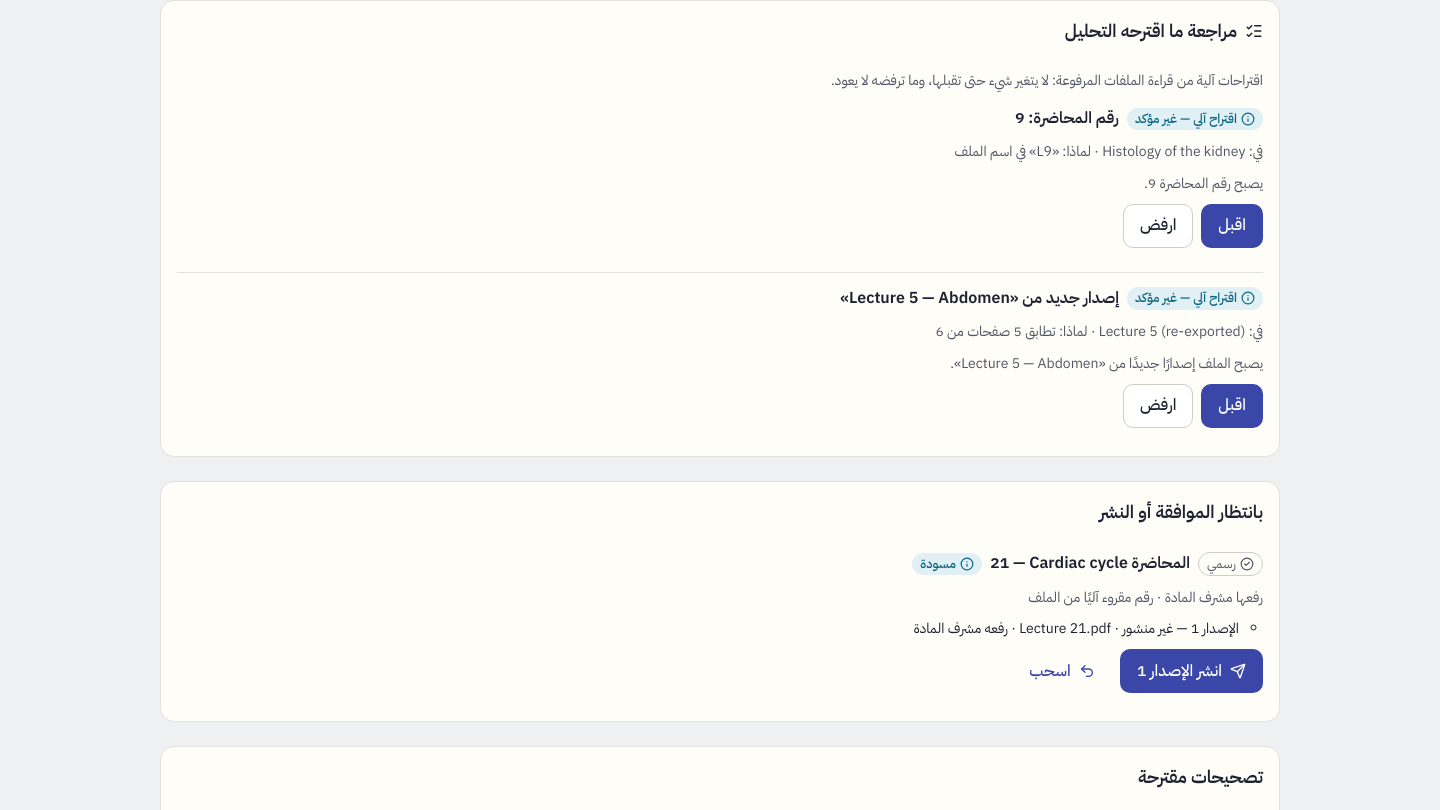
Test: AOS-3.18 / 3.11 / 19I.5 — the subject's review queue › a Subject Moderator sees the proposals marked as machine-made, with reasons and effect; accepting reports the server's result
(page scrolled)
Expected: the 1st list item shows "اقتراح آلي — غير مؤكد", [1135, 109, 1237, 128]
Expected: the 1st list item shows "رقم المحاضرة: 9", [954, 106, 1263, 248]
Click the button "اقبل" below "إصدار جديد من «" at (1232, 406), box [1201, 384, 1263, 428]
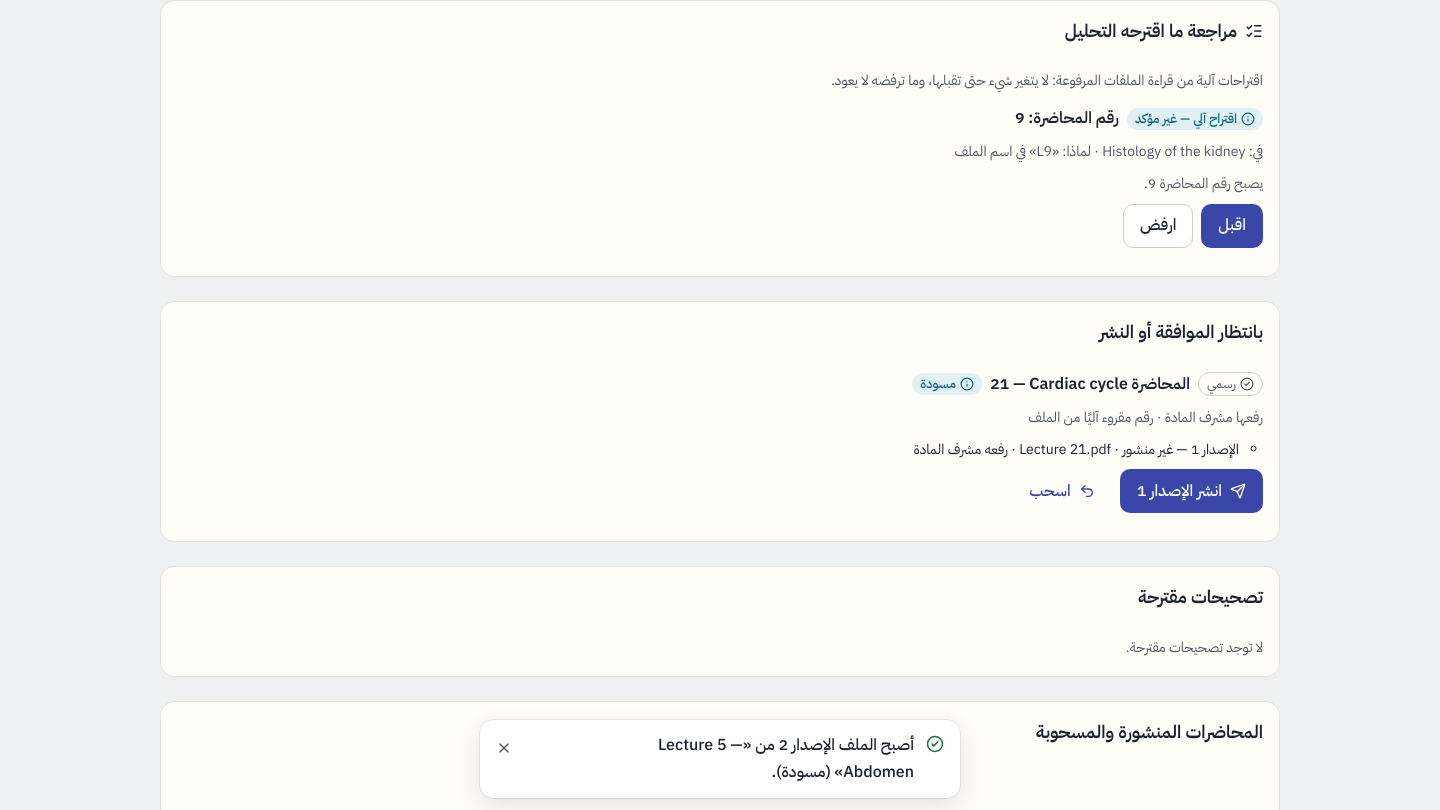
Expected: the text "رفعها مشرف المادة · رقم مقروء آليًا من الملف" is shown, [1028, 407, 1263, 428]
Result: the text "أصبح الملف الإصدار 2 من «Lecture 5 — Abdomen» (مسودة)." is shown at [658, 733, 914, 784]
